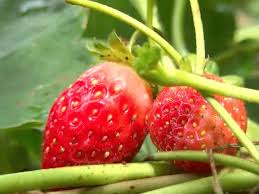ripe: (37, 67, 159, 175), (143, 83, 239, 178), (192, 58, 253, 145)
